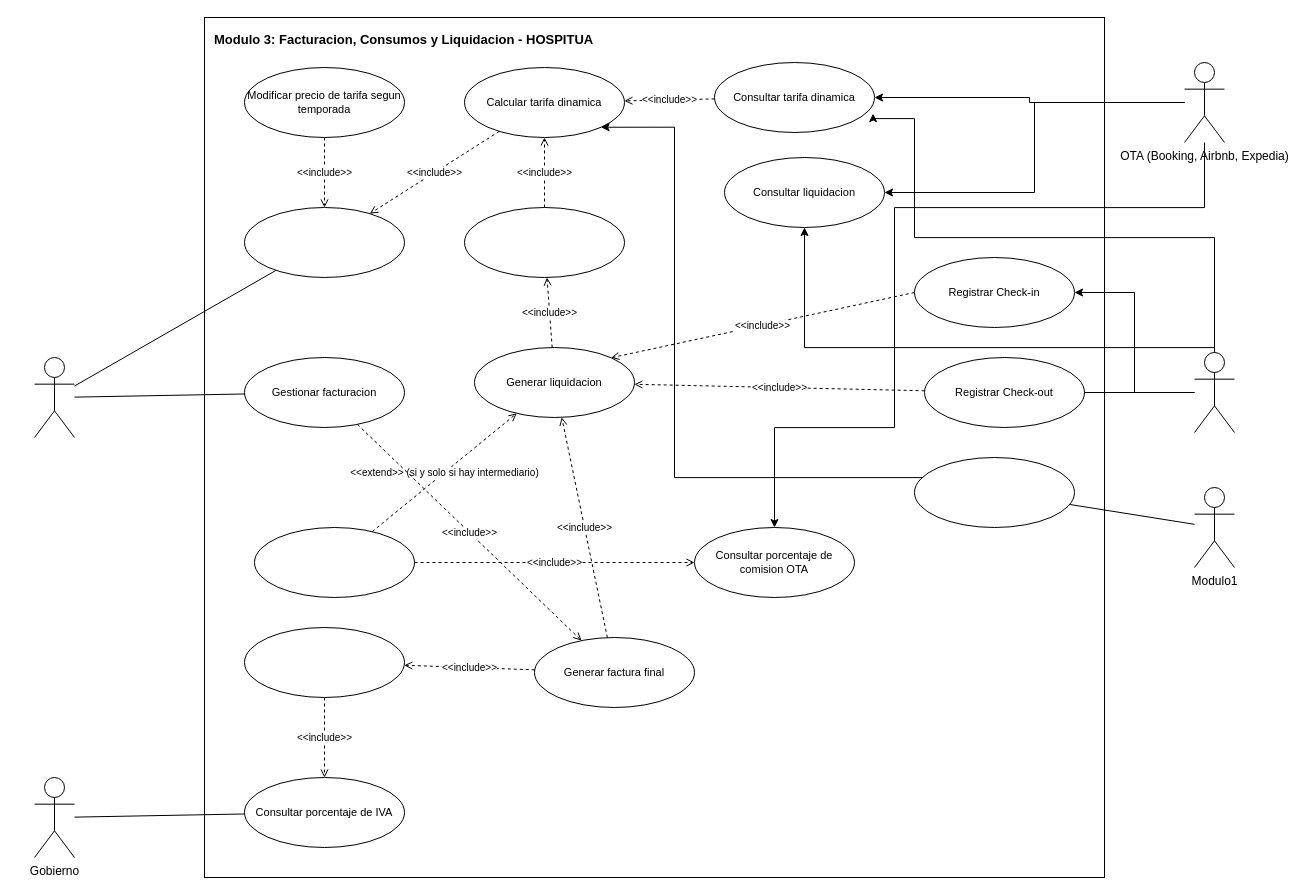
This 1306x896 diagram has some shape labels left out. The box of each missing label's shape, as (x1, y1, x2, y2) in pixels:
Administrador: (34, 356, 74, 438)
Aplicar tarifa dinamica: (464, 206, 624, 278)
Calcular Impuesto (IVA): (244, 626, 404, 698)
Consultar tarifa base: (914, 456, 1074, 528)
Descontar comision OTA: (254, 526, 414, 598)
Modulo2: (1194, 352, 1234, 432)
Revisar temporada del año: (244, 206, 404, 278)
